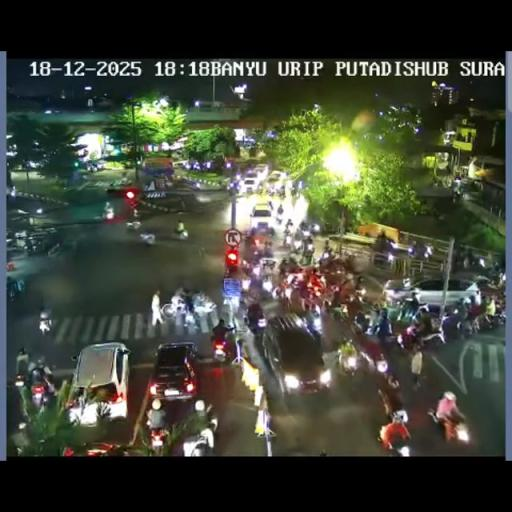Car: (262, 315, 328, 397), (68, 342, 130, 424), (148, 342, 198, 404), (393, 278, 479, 308), (249, 200, 273, 230), (106, 178, 134, 194), (242, 176, 262, 194), (250, 164, 268, 178), (267, 170, 286, 183)
Motorcycle: (276, 266, 336, 312), (376, 392, 410, 454), (426, 406, 472, 446), (354, 332, 392, 378), (400, 318, 446, 352), (28, 371, 56, 411), (181, 426, 212, 457), (160, 294, 194, 320), (474, 305, 505, 333), (210, 329, 232, 362), (190, 290, 217, 316), (9, 422, 30, 455), (338, 345, 359, 376), (338, 277, 360, 305), (148, 424, 168, 454), (245, 312, 267, 339), (250, 238, 274, 262), (410, 346, 423, 388), (242, 283, 262, 310), (200, 402, 216, 435), (304, 310, 322, 338), (407, 241, 433, 260), (456, 314, 475, 338), (485, 264, 505, 286), (6, 370, 28, 390), (6, 276, 25, 299), (366, 306, 382, 333), (464, 250, 484, 270), (329, 302, 348, 323), (384, 366, 400, 390), (10, 232, 28, 250), (260, 270, 274, 293), (38, 313, 52, 335), (238, 254, 252, 276), (452, 246, 466, 268), (138, 230, 156, 246), (354, 310, 367, 332), (318, 247, 332, 265), (300, 246, 314, 264), (278, 256, 292, 274), (171, 226, 188, 240), (125, 217, 141, 231), (46, 242, 62, 256), (243, 232, 255, 250), (396, 443, 410, 456), (294, 228, 304, 245), (26, 238, 36, 255), (227, 180, 239, 194), (282, 232, 293, 247), (102, 207, 114, 220), (451, 187, 460, 203), (309, 222, 320, 234), (402, 276, 412, 289), (275, 209, 284, 223), (276, 184, 285, 198), (292, 184, 301, 198), (284, 218, 294, 230), (298, 220, 308, 232), (85, 162, 97, 172), (198, 245, 206, 259), (267, 186, 275, 198), (132, 206, 139, 218), (267, 200, 274, 211), (10, 185, 16, 197)
